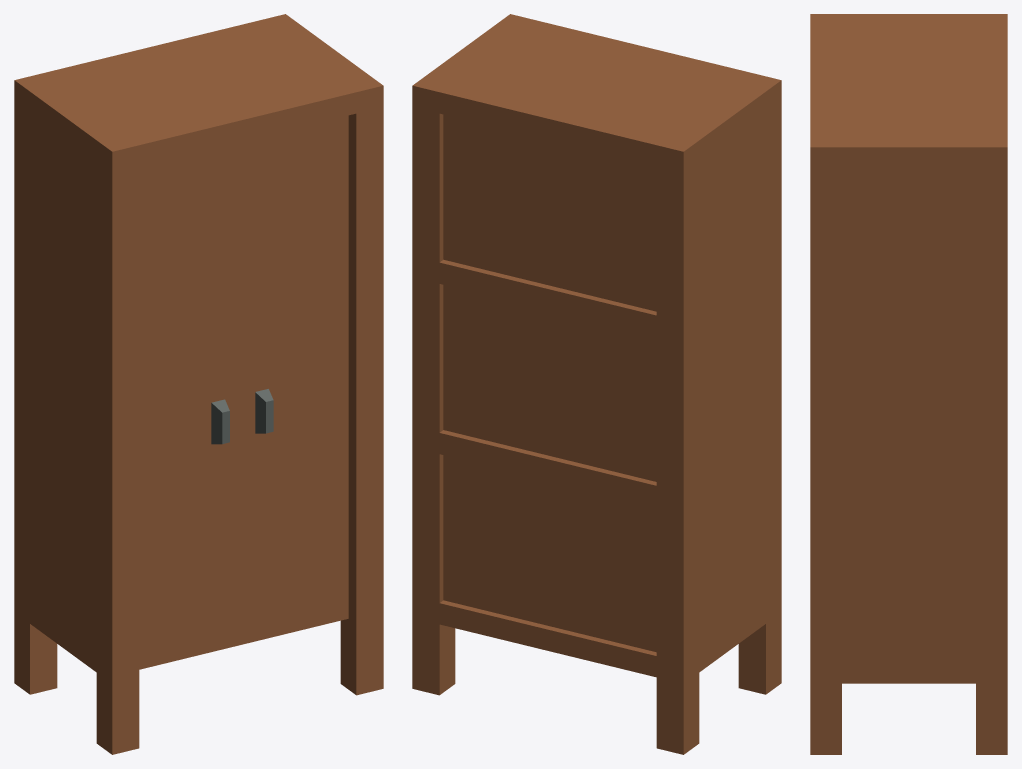
Rendered from bookcaseClosedDoors.fbx.
3 renders of one model, left to right at view 1: azimuth 30°, elevation 25°; view 2: azimuth 150°, elevation 25°; view 3: azimuth 270°, elevation 25°, orthographic.
Visible parts, largest first — view 1: bookcaseClosedDoors.002; view 2: bookcaseClosedDoors.002; view 3: bookcaseClosedDoors.002.
Boxes of the visible parts, left/top/right/bottom form: bookcaseClosedDoors.002: left=14, top=14, right=383, bottom=754; bookcaseClosedDoors.002: left=412, top=14, right=781, bottom=754; bookcaseClosedDoors.002: left=810, top=14, right=1007, bottom=754.
Size of the model in its own units: 40 by 85 by 25.
